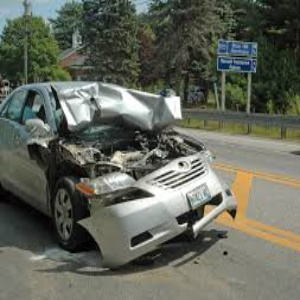bonnet: (54, 80, 188, 154)
bumper: (85, 181, 226, 270)
